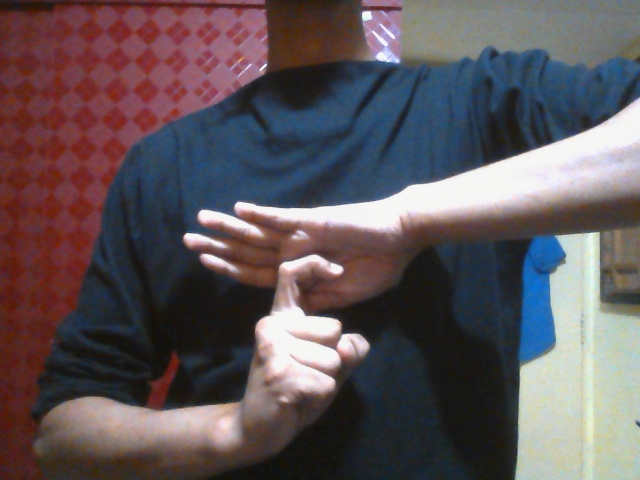R: (182, 197, 411, 441)
